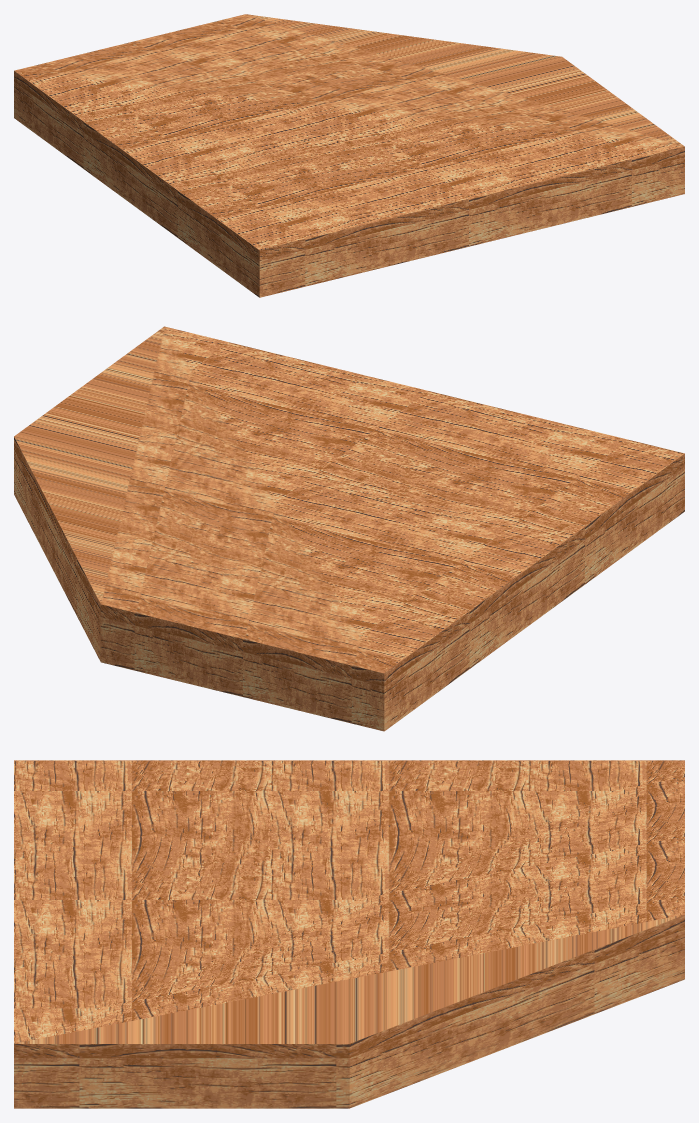
File: detail_one.fbx
3 renders of one model, top to bottom at view 1: azimuth 30°, elevation 25°; view 2: azimuth 150°, elevation 25°; view 3: azimuth 270°, elevation 25°, orthographic. The views are drawn at different scales.
Parts seen in each view (by area): view 1: detail; view 2: detail; view 3: detail.
Part boxes in pixels (x1=…): detail: x1=14, y1=14, x2=684, y2=297; detail: x1=14, y1=326, x2=684, y2=731; detail: x1=14, y1=760, x2=684, y2=1108.
Size of the model in its own units: 24.19 by 2.57 by 24.19.
